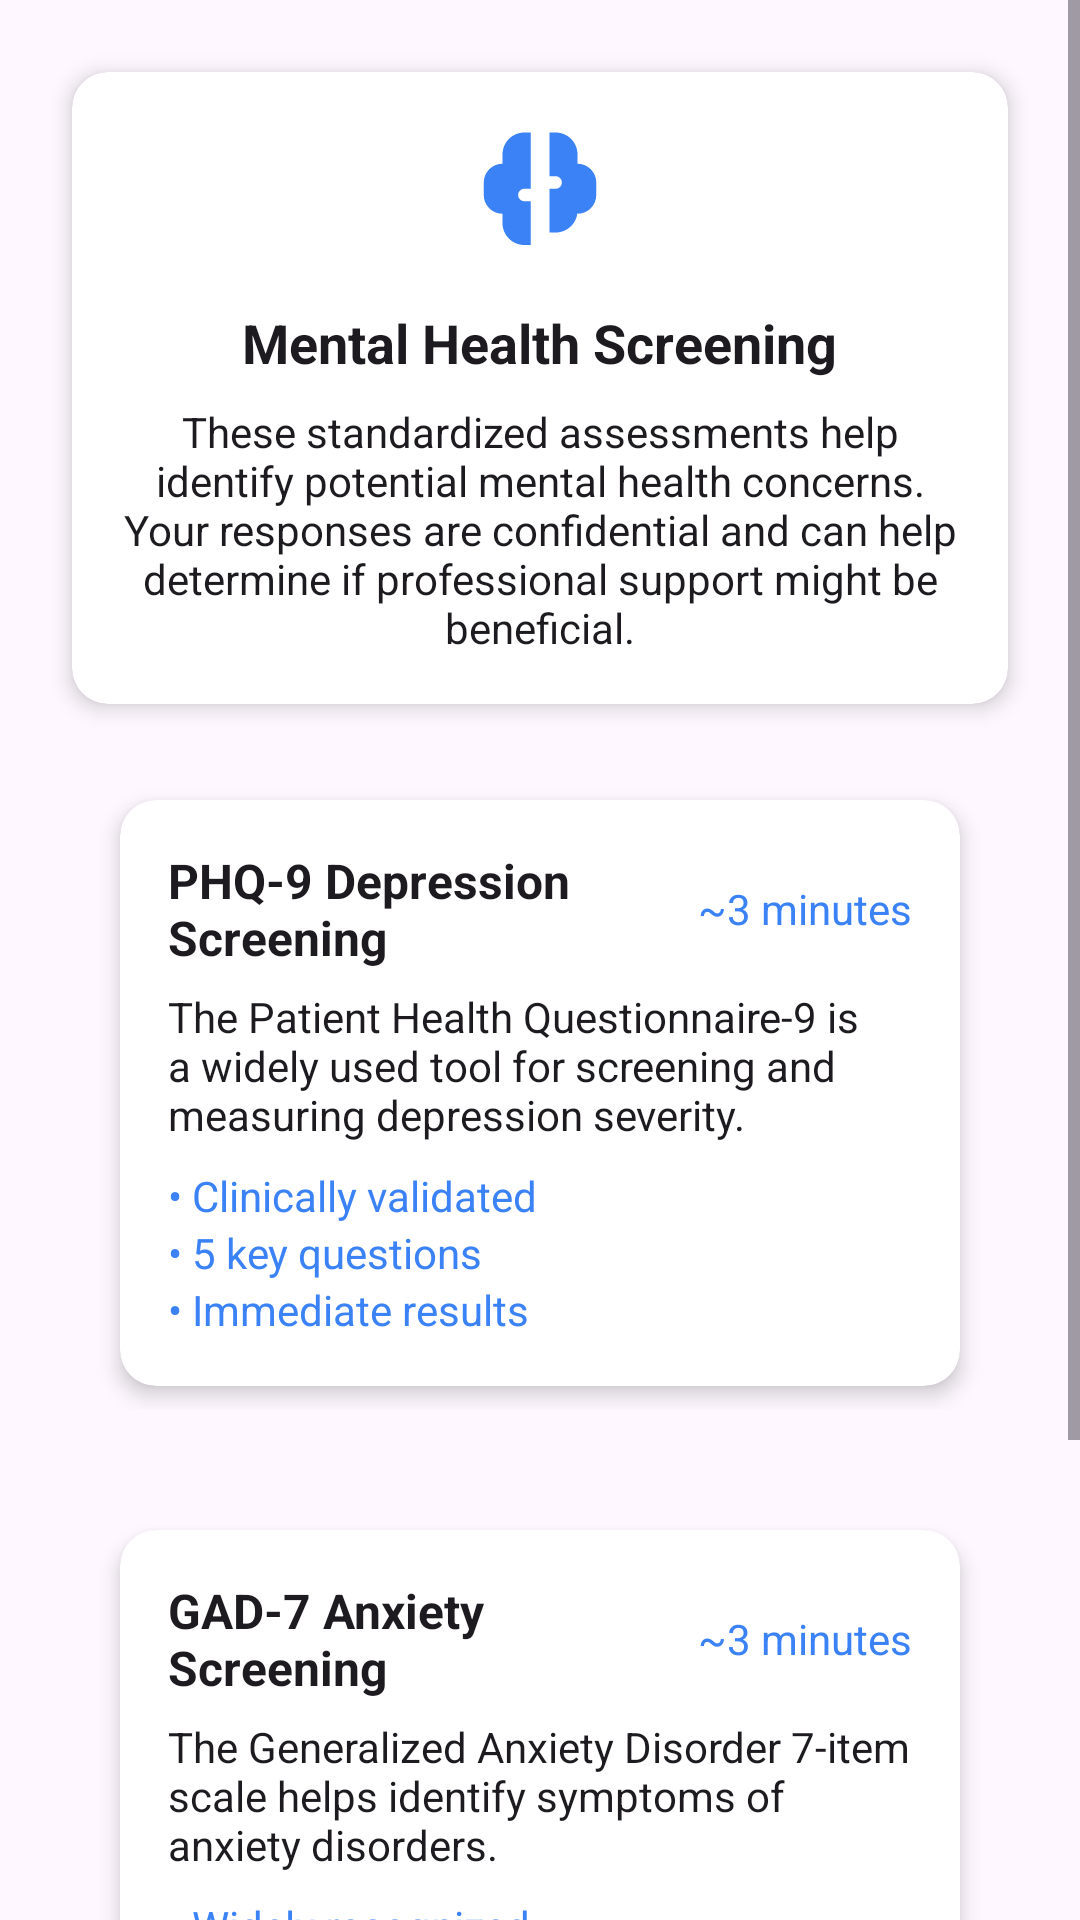

Screen size 1080×1920. Icon name, then its box in pixels as region(x1, y1, x2, y2):
brain: region(483, 132, 597, 245)
